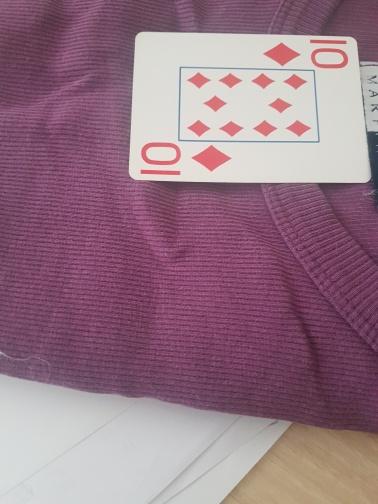ten: (127, 30, 377, 184)
